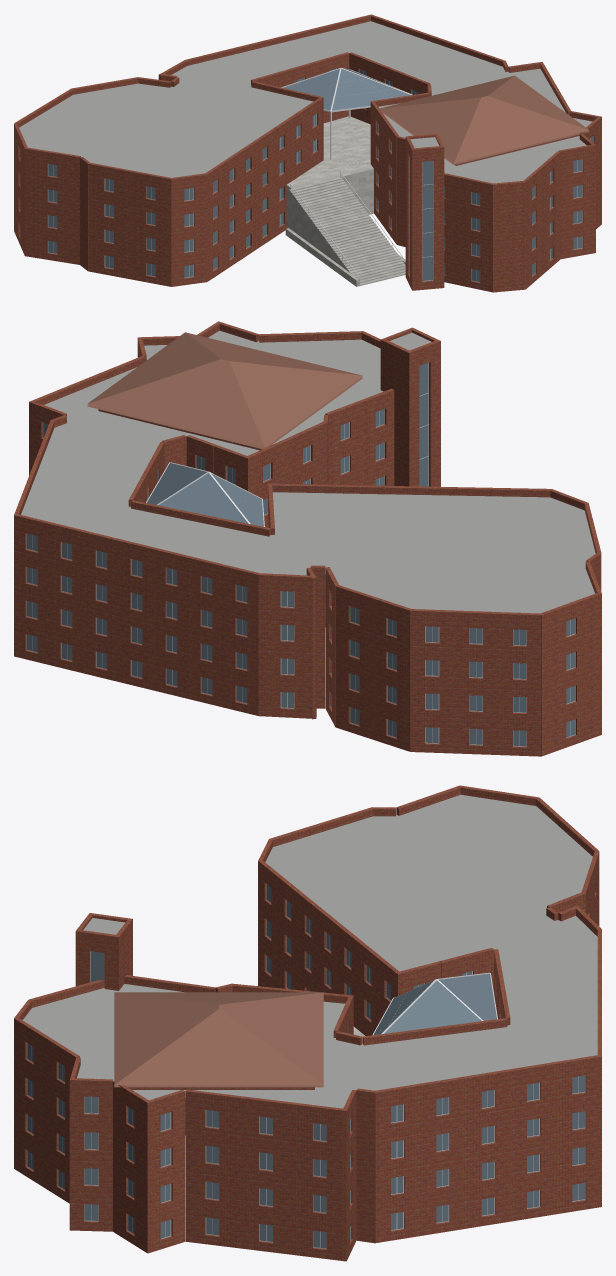
3 views of the same model, one above another, from view 1: azimuth 30°, elevation 25°; view 2: azimuth 150°, elevation 25°; view 3: azimuth 270°, elevation 25° (orthographic). The views are drawn at different scales.
Parts seen in each view (by area): view 1: ignatius__brick, ignatius__flat, ignatius__stone, ignatius__roof, ignatius__glass, ignatius__frame; view 2: ignatius__brick, ignatius__flat, ignatius__roof, ignatius__glass, ignatius__frame; view 3: ignatius__brick, ignatius__flat, ignatius__roof, ignatius__glass, ignatius__frame.
Boxes of the visible parts, bbox=[...] form: ignatius__brick: bbox=[14, 14, 601, 292]; ignatius__flat: bbox=[19, 21, 592, 183]; ignatius__stone: bbox=[285, 116, 405, 286]; ignatius__roof: bbox=[379, 75, 589, 164]; ignatius__glass: bbox=[48, 68, 592, 281]; ignatius__frame: bbox=[20, 68, 593, 283]; ignatius__brick: bbox=[14, 321, 601, 756]; ignatius__flat: bbox=[21, 330, 595, 613]; ignatius__roof: bbox=[87, 332, 362, 448]; ignatius__glass: bbox=[27, 362, 575, 746]; ignatius__frame: bbox=[26, 362, 575, 746]; ignatius__brick: bbox=[14, 785, 601, 1261]; ignatius__flat: bbox=[22, 794, 597, 1108]; ignatius__roof: bbox=[114, 992, 323, 1087]; ignatius__glass: bbox=[27, 884, 584, 1248]; ignatius__frame: bbox=[27, 884, 585, 1248].
Bounding box in the file's own units: 77.92 × 22 × 59.48.
6 materials, 2 textured.
